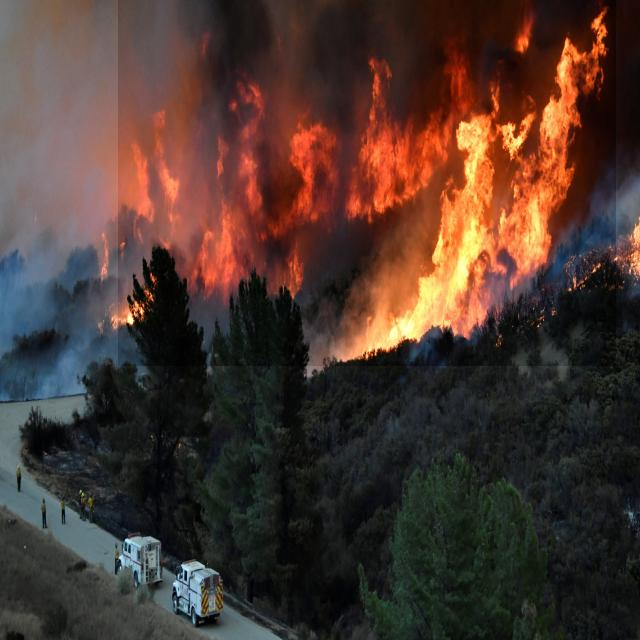Fire: (118, 0, 616, 366)
